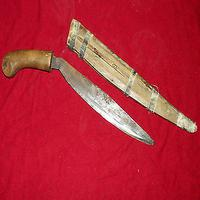knife: (1, 46, 158, 149)
